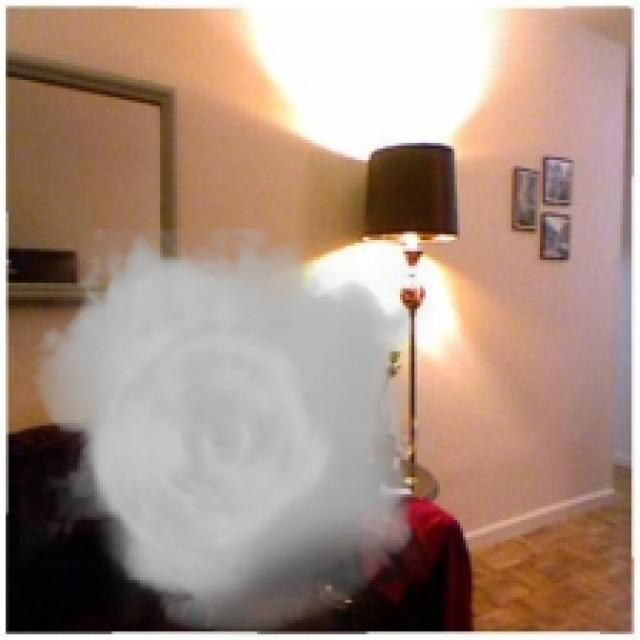smoke: (20, 229, 434, 637)
